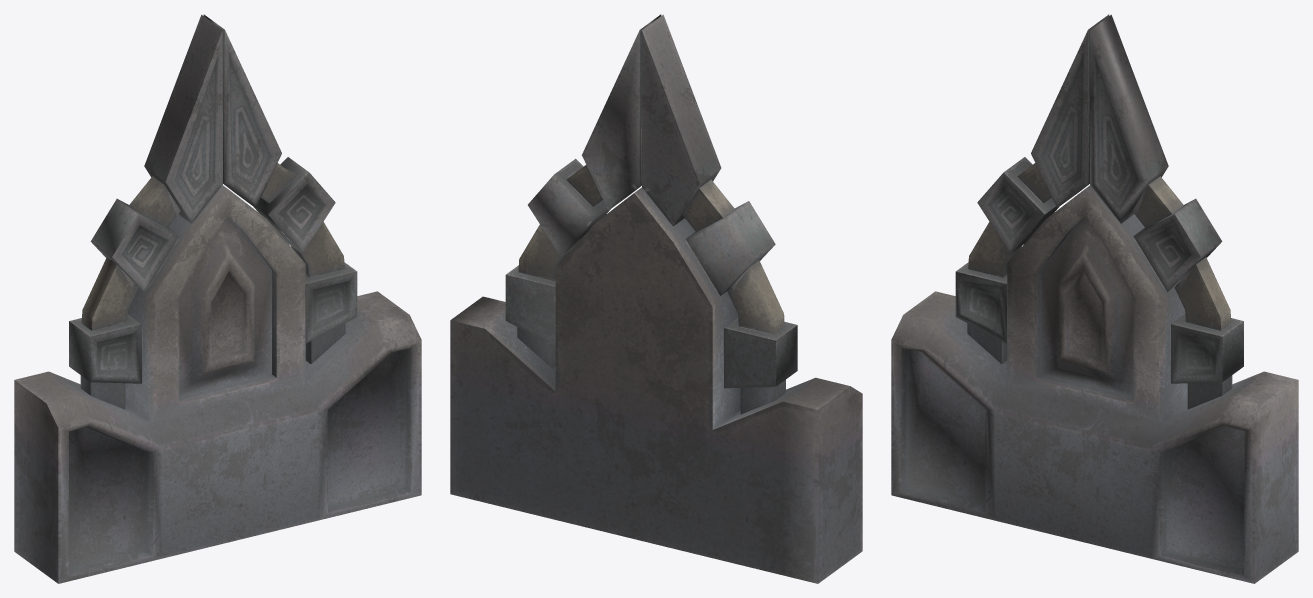
File: AD_GatePillar_A_01.fbx
The picture shows the model from 3 angles, left to right: view 1: azimuth 30°, elevation 25°; view 2: azimuth 150°, elevation 25°; view 3: azimuth 330°, elevation 25°; orthographic projection.
Parts seen in each view (by area): view 1: AD_GatePillar_A_01; view 2: AD_GatePillar_A_01; view 3: AD_GatePillar_A_01.
Boxes of the visible parts, bbox=[...] form: AD_GatePillar_A_01: bbox=[14, 14, 421, 583]; AD_GatePillar_A_01: bbox=[450, 14, 862, 583]; AD_GatePillar_A_01: bbox=[891, 14, 1298, 583].
Bounding box in the file's own units: 1889 × 2474 × 397.
Materials: 1 (1 with a texture image).
